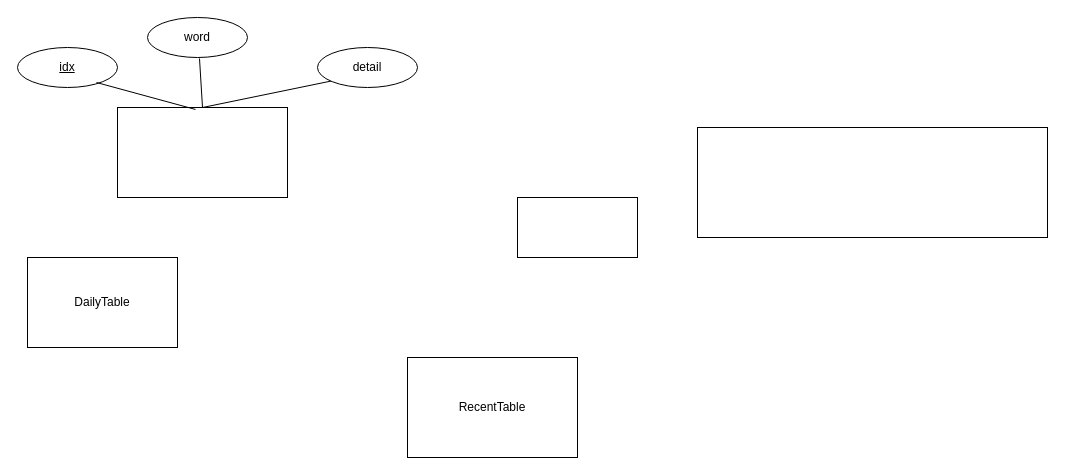
The diagram is 1065 pixels wide and 475 high, and some of its shapes have lost their labels. The box of each missing label's shape, as (x1, y1, x2, y2) in pixels:
DictionaryEnglishVietNam: (116, 106, 288, 198)
FavoritesTable: (696, 126, 1048, 238)
Game2: (516, 196, 638, 258)
